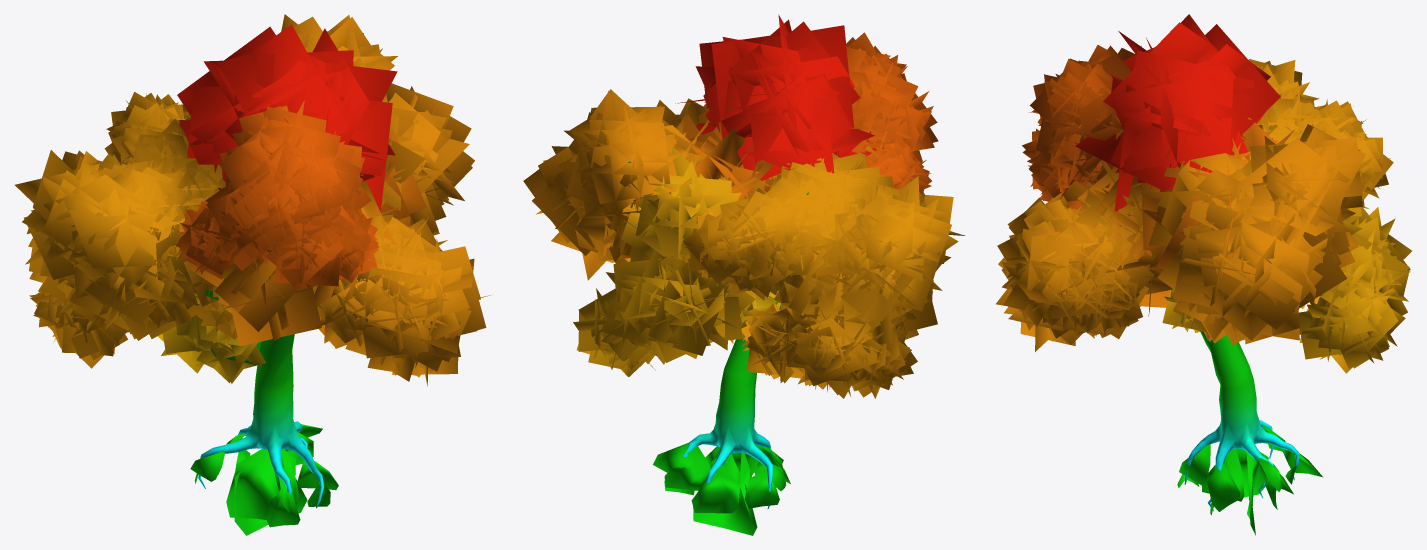
Rendered from BigTree3.fbx.
3 views of the same model, side by side, from view 1: azimuth 30°, elevation 25°; view 2: azimuth 150°, elevation 25°; view 3: azimuth 270°, elevation 25° (orthographic). The views are drawn at different scales.
Visible parts, largest first — view 1: BigTree3_LOD0; view 2: BigTree3_LOD0; view 3: BigTree3_LOD0.
Part boxes in pixels (left/top/right/bottom): BigTree3_LOD0: left=15, top=14, right=490, bottom=535; BigTree3_LOD0: left=523, top=14, right=965, bottom=535; BigTree3_LOD0: left=996, top=14, right=1411, bottom=535.
Size of what is drawn, in the model's own units: 2616 by 3051 by 2327.
